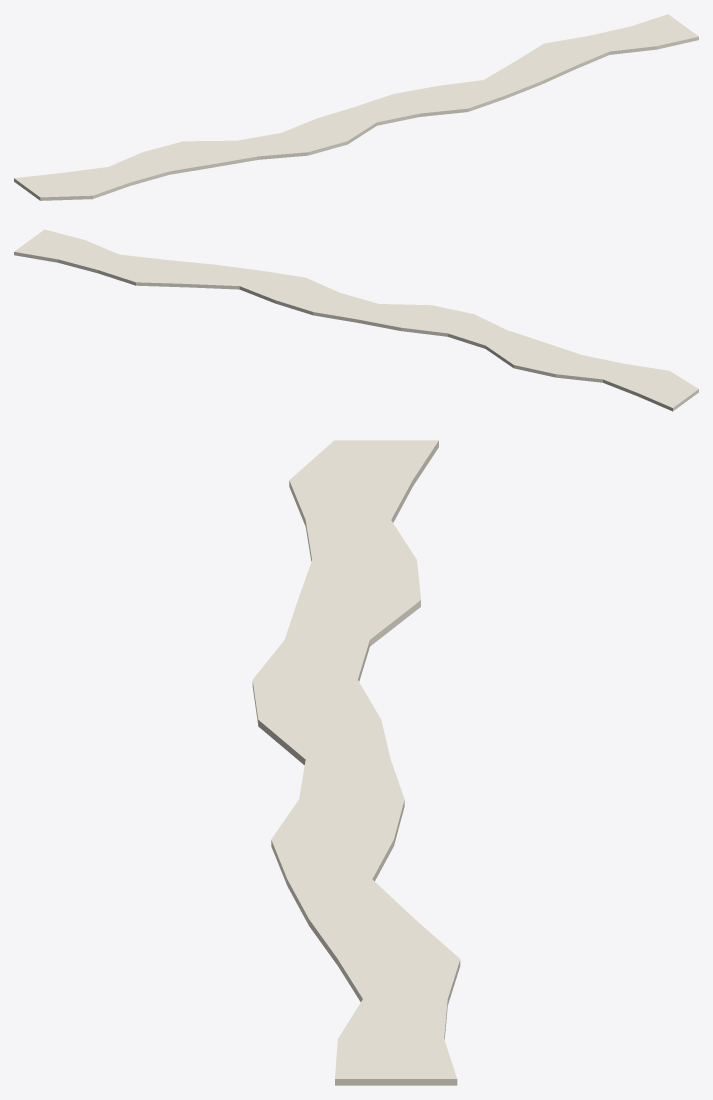
The model's file is shoreline_foam.glb.
3 renders of one model, top to bottom at view 1: azimuth 30°, elevation 25°; view 2: azimuth 150°, elevation 25°; view 3: azimuth 270°, elevation 25°, orthographic. The views are drawn at different scales.
Visible parts, largest first — view 1: beach_shoreline_foam; view 2: beach_shoreline_foam; view 3: beach_shoreline_foam.
Part boxes in pixels (x1,y1,x2,y2): beach_shoreline_foam: (14,14,698,200); beach_shoreline_foam: (14,229,698,411); beach_shoreline_foam: (252,440,460,1085).
Size of the model in its own units: 8 by 0.04 by 1.1.
1 material, 1 textured.
